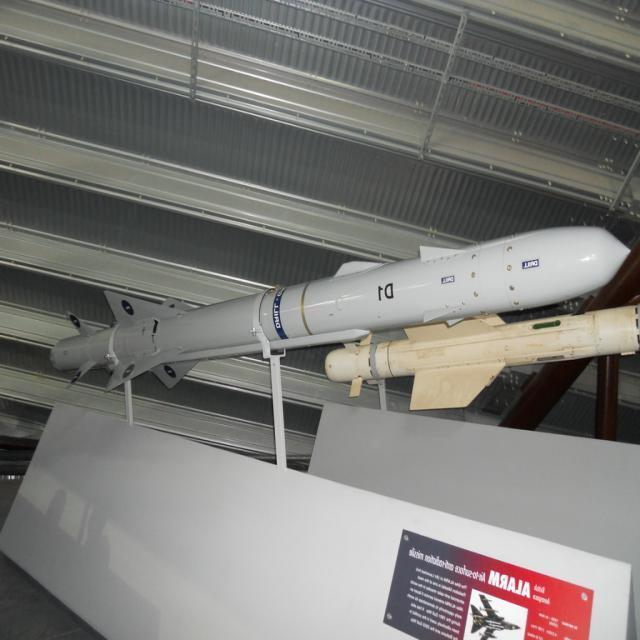missile: (20, 197, 640, 400), (320, 299, 640, 427), (470, 598, 519, 639)
